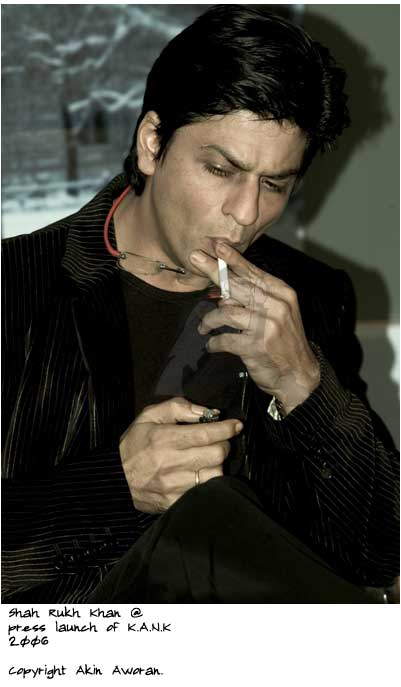cigarette: (218, 255, 236, 296)
